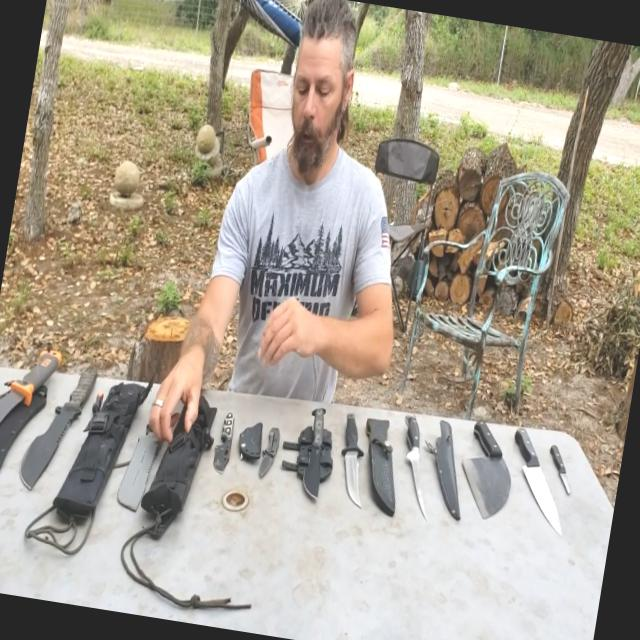knife: (17, 339, 108, 503), (0, 327, 69, 541), (491, 420, 587, 562), (100, 385, 181, 542), (441, 411, 523, 538), (376, 400, 442, 516), (289, 392, 345, 522), (324, 392, 380, 514), (252, 409, 290, 498), (206, 404, 243, 494), (538, 436, 582, 500)
